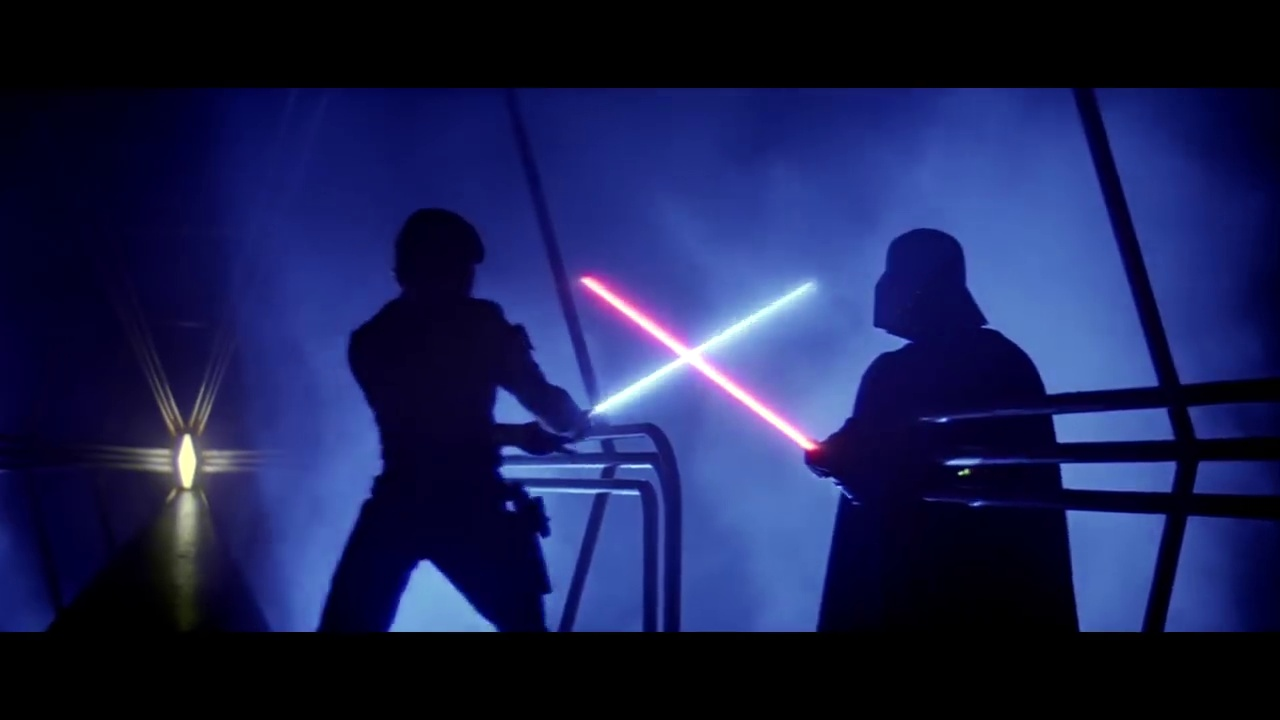lightsaber: (538, 264, 876, 506)
